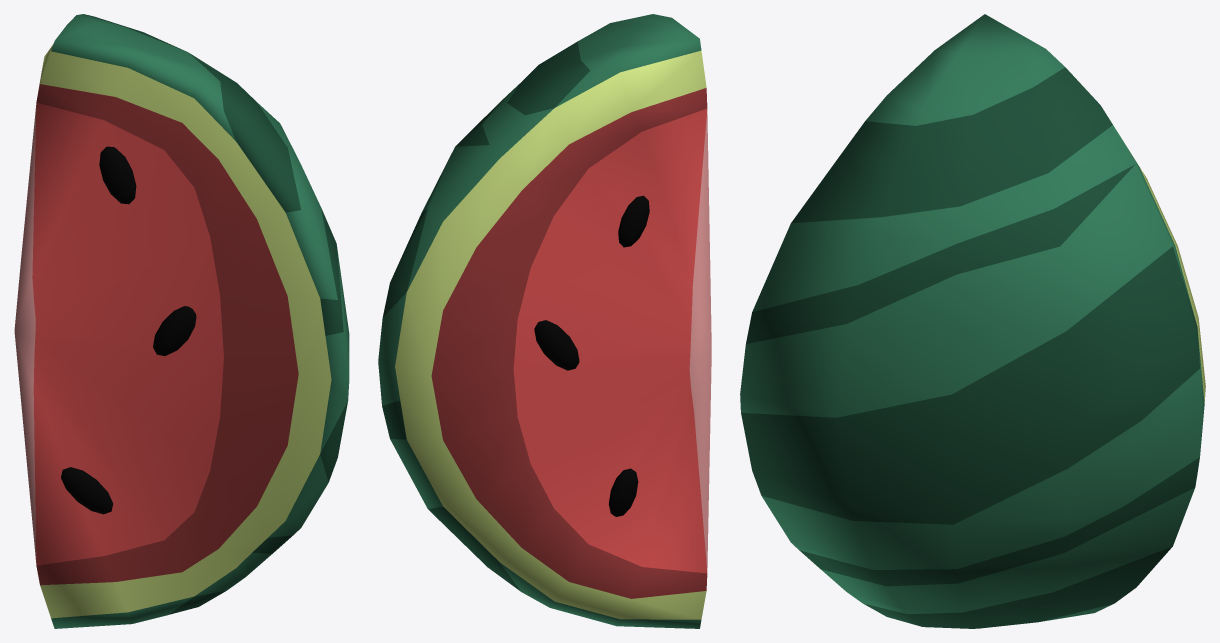
File: Fx_Mesh_watermelon_PartsB.FBX
The picture shows the model from 3 angles, left to right: view 1: azimuth 30°, elevation 25°; view 2: azimuth 150°, elevation 25°; view 3: azimuth 270°, elevation 25°; orthographic projection.
Visible parts, largest first — view 1: Fx_Mesh_watermelon_PartsB; view 2: Fx_Mesh_watermelon_PartsB; view 3: Fx_Mesh_watermelon_PartsB.
Part boxes in pixels (box(x1,y1,x2,y2)): Fx_Mesh_watermelon_PartsB: box(14, 14, 349, 628); Fx_Mesh_watermelon_PartsB: box(378, 14, 711, 628); Fx_Mesh_watermelon_PartsB: box(740, 14, 1205, 628).
Bounding box in the file's own units: 32.95 × 67.03 × 47.9.
